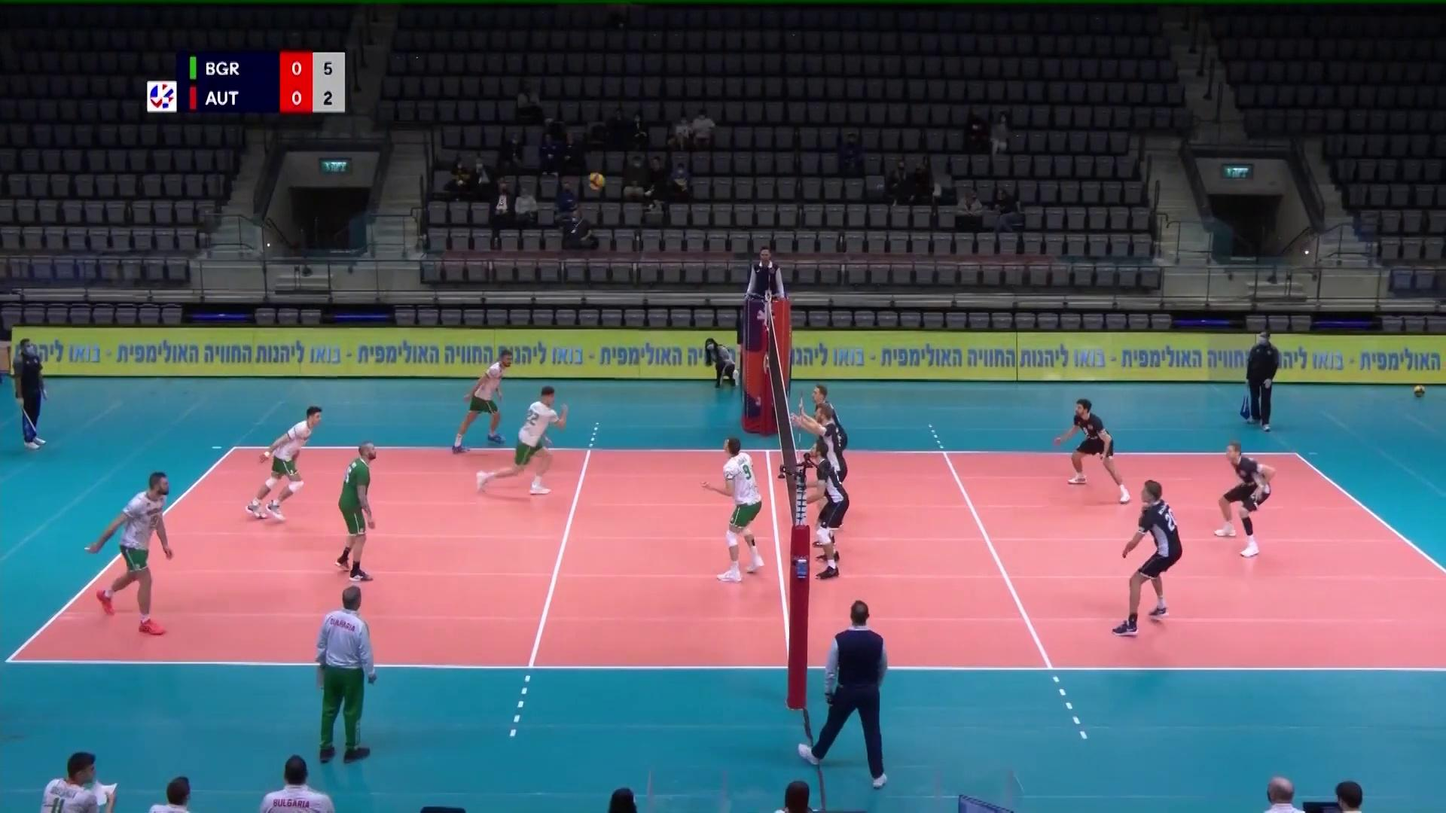ball: (588, 172, 606, 190)
